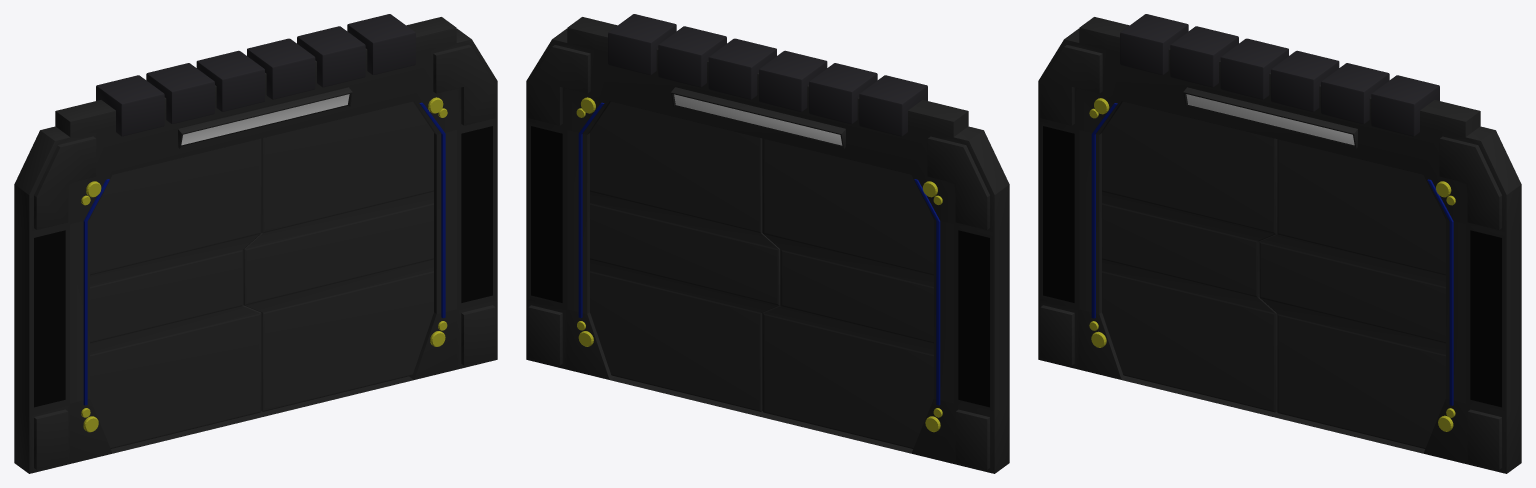
File: lab door.fbx
3 renders of one model, left to right at view 1: azimuth 30°, elevation 25°; view 2: azimuth 150°, elevation 25°; view 3: azimuth 330°, elevation 25°, orthographic.
Parts seen in each view (by area): view 1: Door lab, door2, door1, Boite en haut de la porte, Lampe Port001, Bleu emissif001, jaune; view 2: Door lab, door2, door1, Boite en haut de la porte, Lampe Port001, Bleu emissif001, jaune; view 3: Door lab, door2, door1, Boite en haut de la porte, Lampe Port001, Bleu emissif001, jaune.
Part boxes in pixels (<box>): Door lab: <box>14,17,497,473</box>; door2: <box>243,101,433,411</box>; door1: <box>90,138,261,448</box>; Boite en haut de la porte: <box>96,14,415,136</box>; Lampe Port001: <box>178,87,352,148</box>; Bleu emissif001: <box>83,102,445,405</box>; jaune: <box>81,97,447,432</box>; Door lab: <box>526,17,1009,473</box>; door2: <box>590,101,780,411</box>; door1: <box>762,138,933,448</box>; Boite en haut de la porte: <box>608,14,927,136</box>; Lampe Port001: <box>671,87,845,148</box>; Bleu emissif001: <box>578,102,940,405</box>; jaune: <box>576,97,942,432</box>; Door lab: <box>1038,17,1521,473</box>; door2: <box>1259,139,1445,448</box>; door1: <box>1102,101,1277,412</box>; Boite en haut de la porte: <box>1120,14,1439,136</box>; Lampe Port001: <box>1183,87,1357,148</box>; Bleu emissif001: <box>1091,103,1453,405</box>; jaune: <box>1089,98,1455,431</box>.
Size of the model in its own units: 1958 by 1410 by 189.
